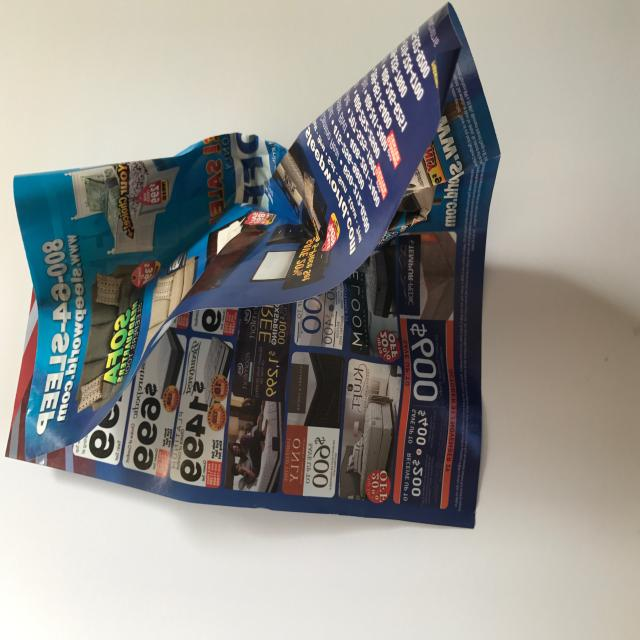paper: (1, 0, 520, 593)
